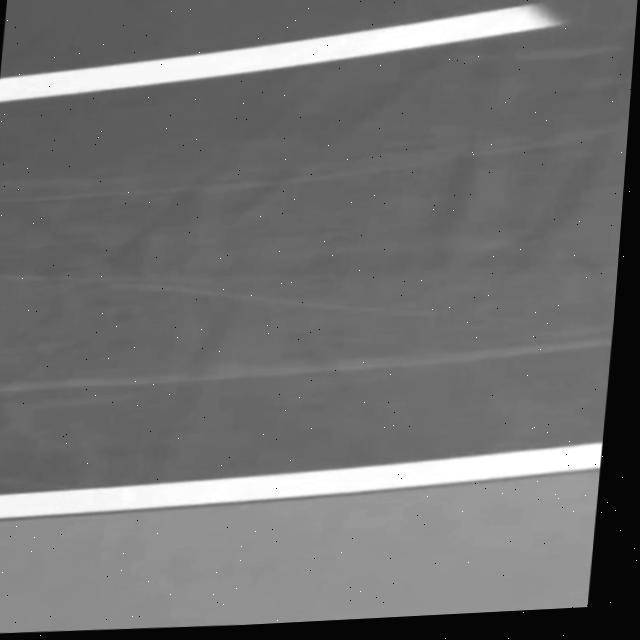center: (0, 5, 561, 101)
right: (0, 441, 602, 518)
